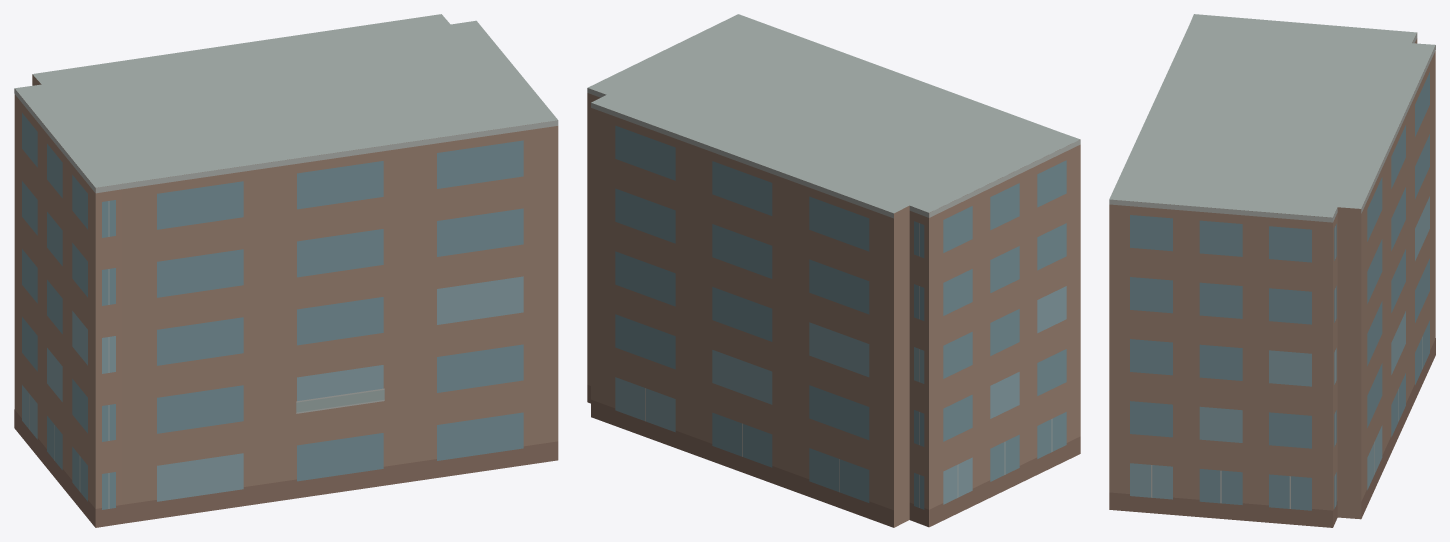
The model's file is survey-upis-32646399.glb.
3 renders of one model, left to right at view 1: azimuth 30°, elevation 25°; view 2: azimuth 150°, elevation 25°; view 3: azimuth 270°, elevation 25°, orthographic. The views are drawn at different scales.
Visible parts, largest first — view 1: survey-upis-32646399.tmp; view 2: survey-upis-32646399.tmp; view 3: survey-upis-32646399.tmp.
Boxes of the visible parts, x1,y1,x2,y2 form: survey-upis-32646399.tmp: [14, 14, 558, 527]; survey-upis-32646399.tmp: [587, 14, 1080, 527]; survey-upis-32646399.tmp: [1109, 14, 1435, 527].
Bounding box in the file's own units: 21.26 × 15.1 × 14.41.
